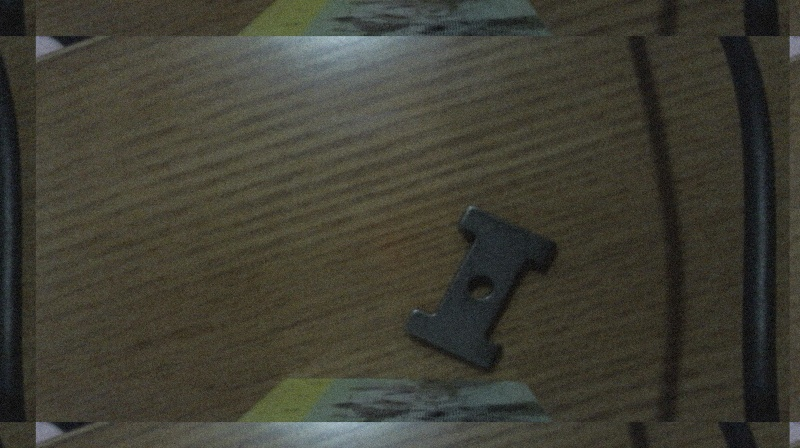O002: (404, 202, 560, 371)
